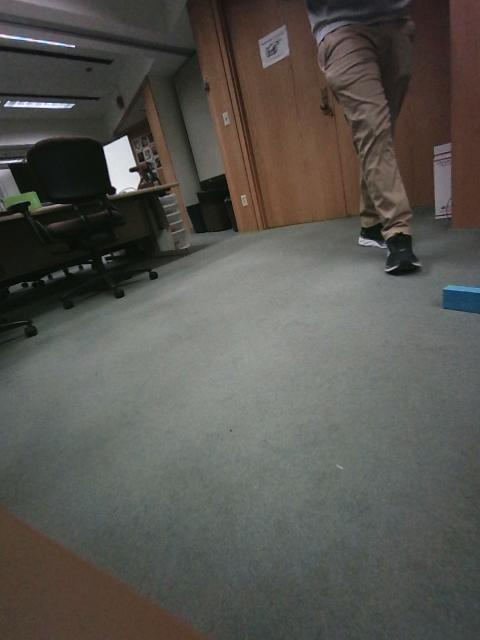block: (204, 299, 241, 329)
